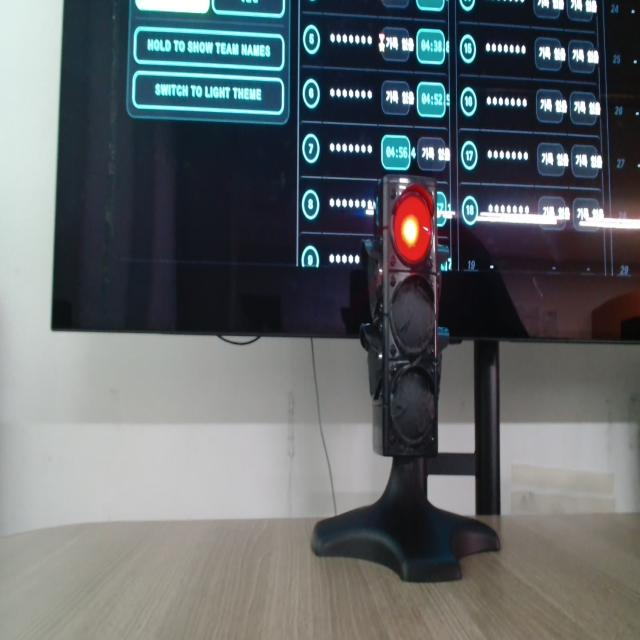red_light: (393, 191, 432, 264)
